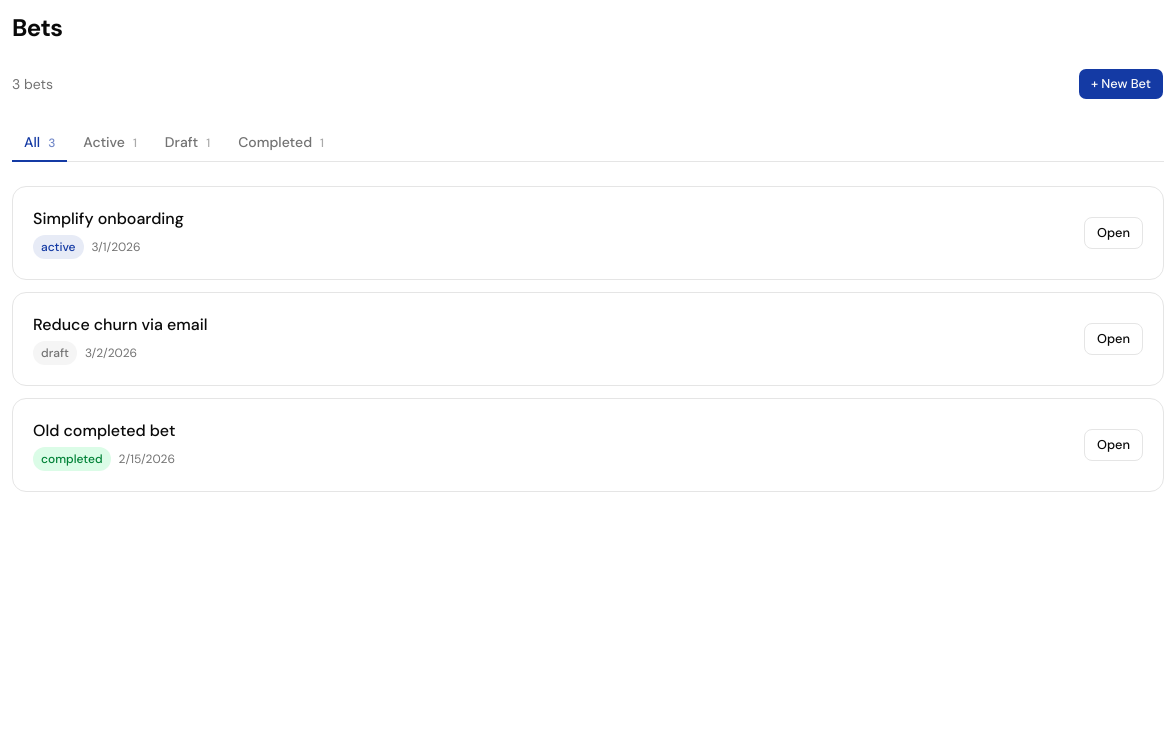
it: BetsPage › shows recommendation banner when recommendation exists
This screenshot has width=1176, height=732.
Click the button "+ New Bet". click: click(1121, 84)
box: x1=1078 y1=68 x2=1164 y2=100
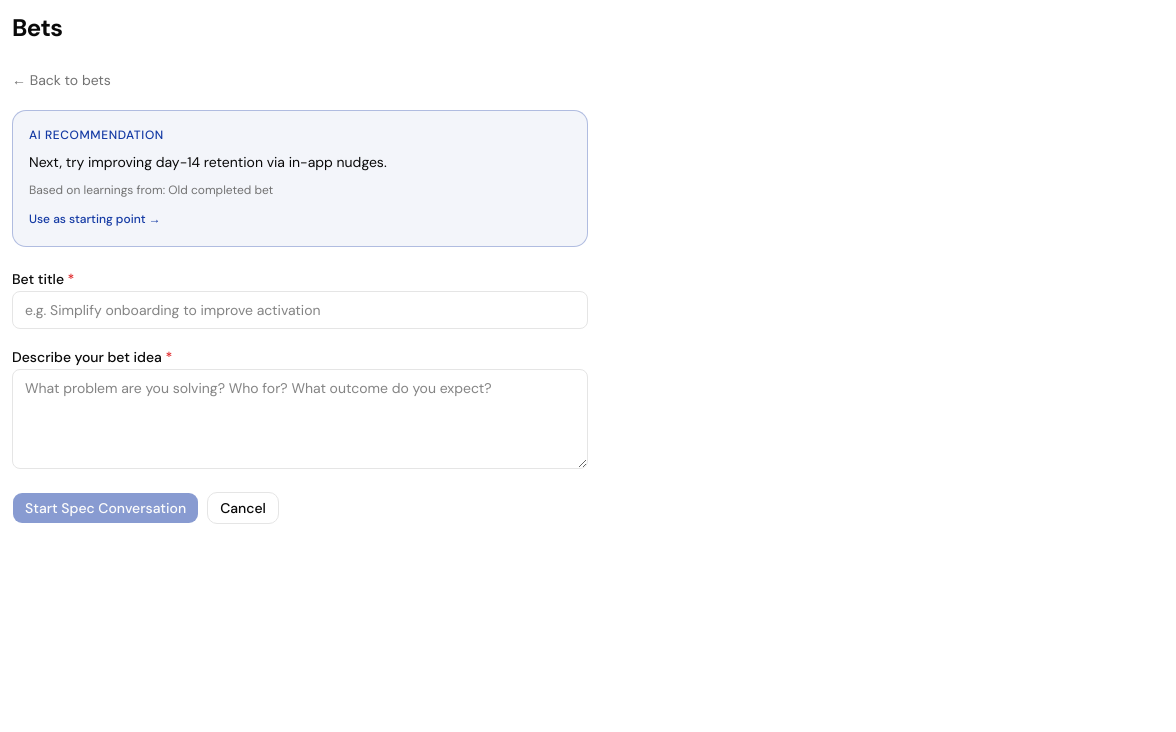
Check: the text "AI Recommendation" is shown, box x1=29 y1=127 x2=164 y2=143
Check: the text "Next, try improving day-14 retention via in-app nudges." is shown, box x1=29 y1=153 x2=387 y2=171
